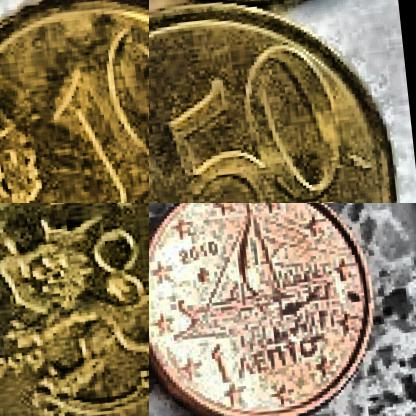coin: (149, 0, 415, 202), (149, 203, 391, 415), (0, 203, 148, 415), (0, 0, 148, 202)
